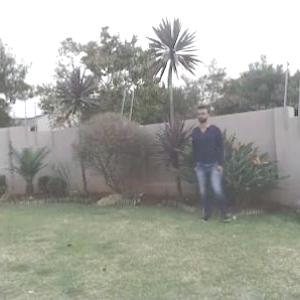follow: (192, 104, 228, 224)
